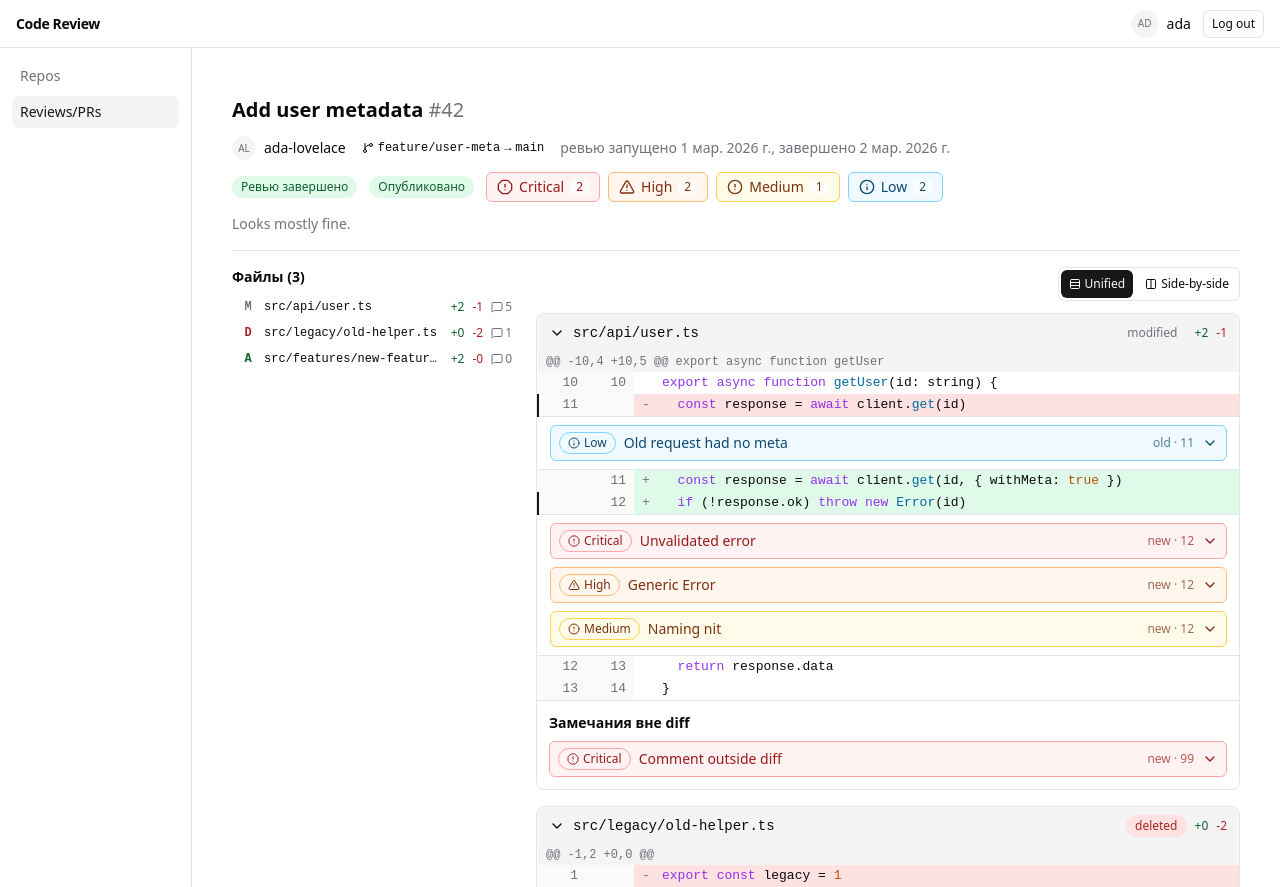
Test: PullRequestPage: view mode › leaves an empty cell opposite a lone addition in split mode
The width and height of the screenshot is (1280, 887).
Check: the heading "Add user metadata #42" is shown, box [232, 96, 464, 123]
Click the button "Side-by-side": [1187, 284] box [1137, 270, 1237, 298]
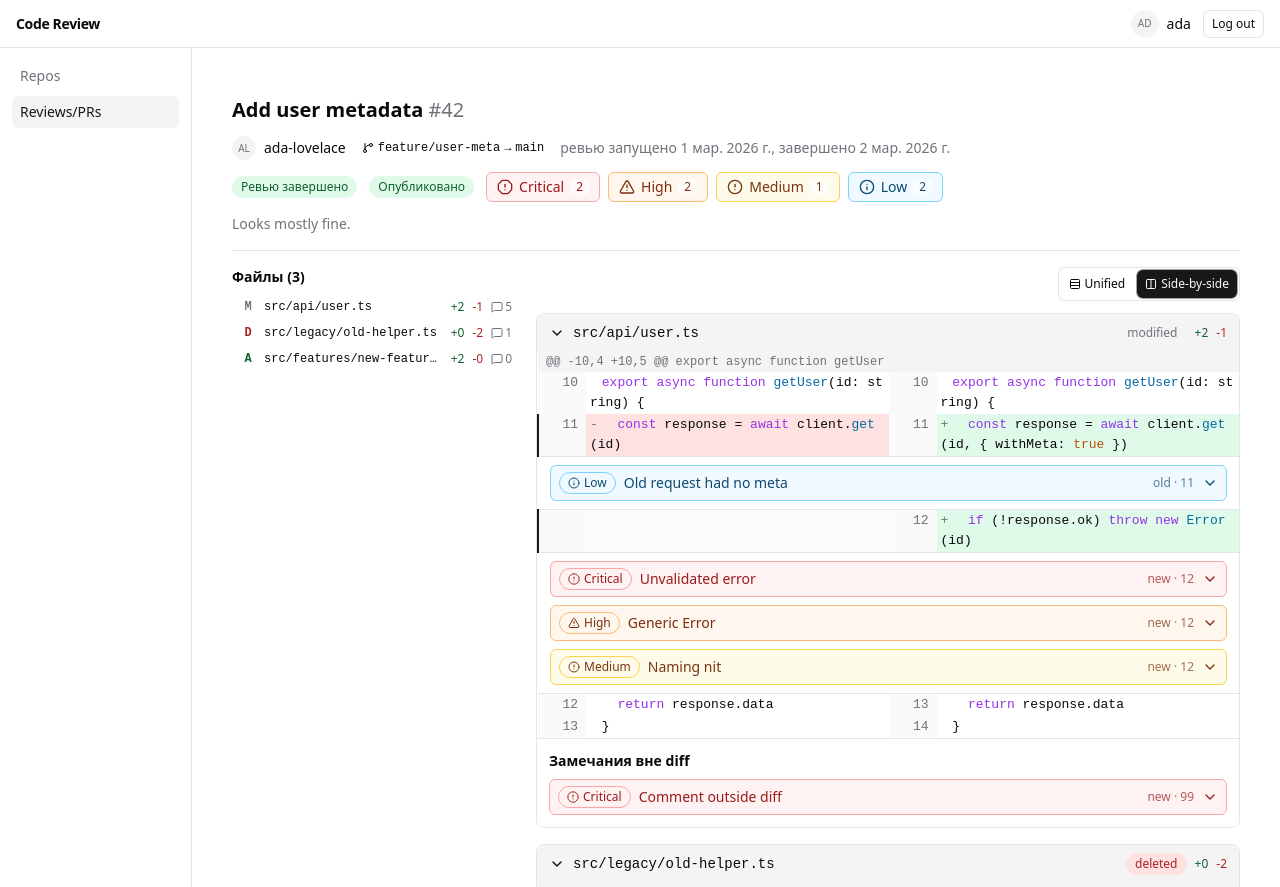
Check: the 3rd cell with test id "cell-left" is empty, box [586, 510, 888, 552]
Check: the cell with test id "cell-right" shows "throw new Error(id)", box [936, 510, 1239, 552]
